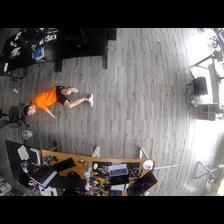fall: (24, 84, 94, 120)
